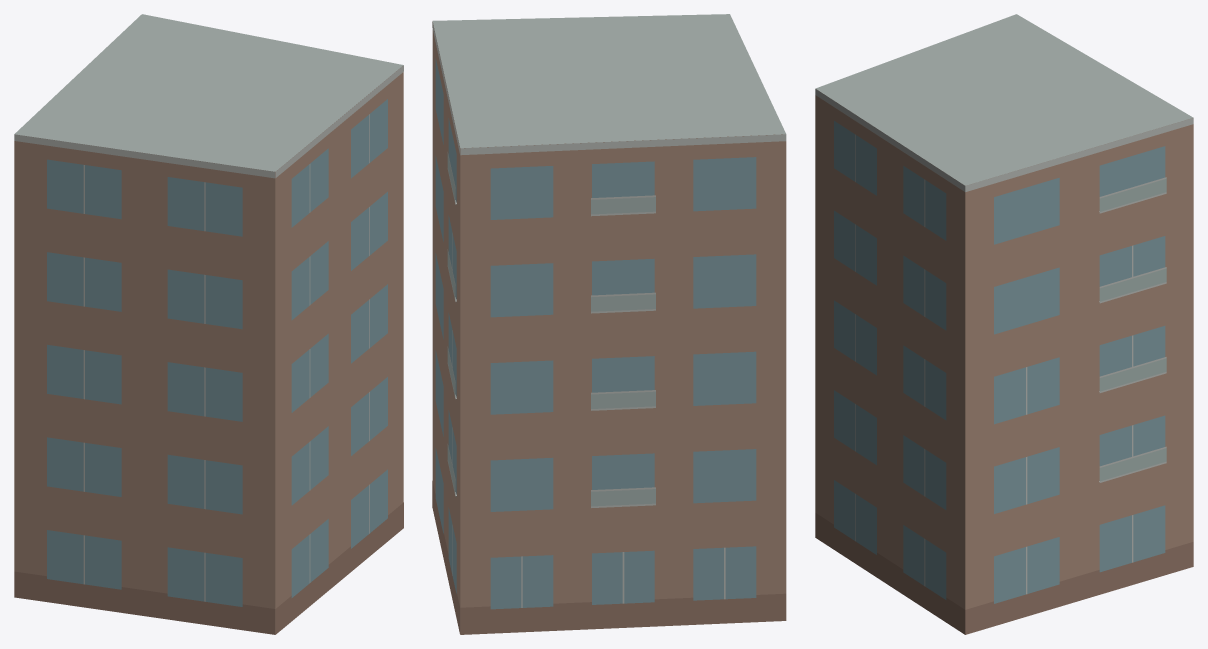
Rendered from survey-upis-32844843.glb.
3 views of the same model, side by side, from view 1: azimuth 30°, elevation 25°; view 2: azimuth 150°, elevation 25°; view 3: azimuth 270°, elevation 25° (orthographic). The views are drawn at different scales.
Visible parts, largest first — view 1: survey-upis-32844843.tmp; view 2: survey-upis-32844843.tmp; view 3: survey-upis-32844843.tmp.
Part boxes in pixels (x1,y1,x2,y2): survey-upis-32844843.tmp: (14,14,403,634); survey-upis-32844843.tmp: (432,14,786,634); survey-upis-32844843.tmp: (815,14,1193,634).
Size of the model in its own units: 14.04 by 17.1 by 13.07.
